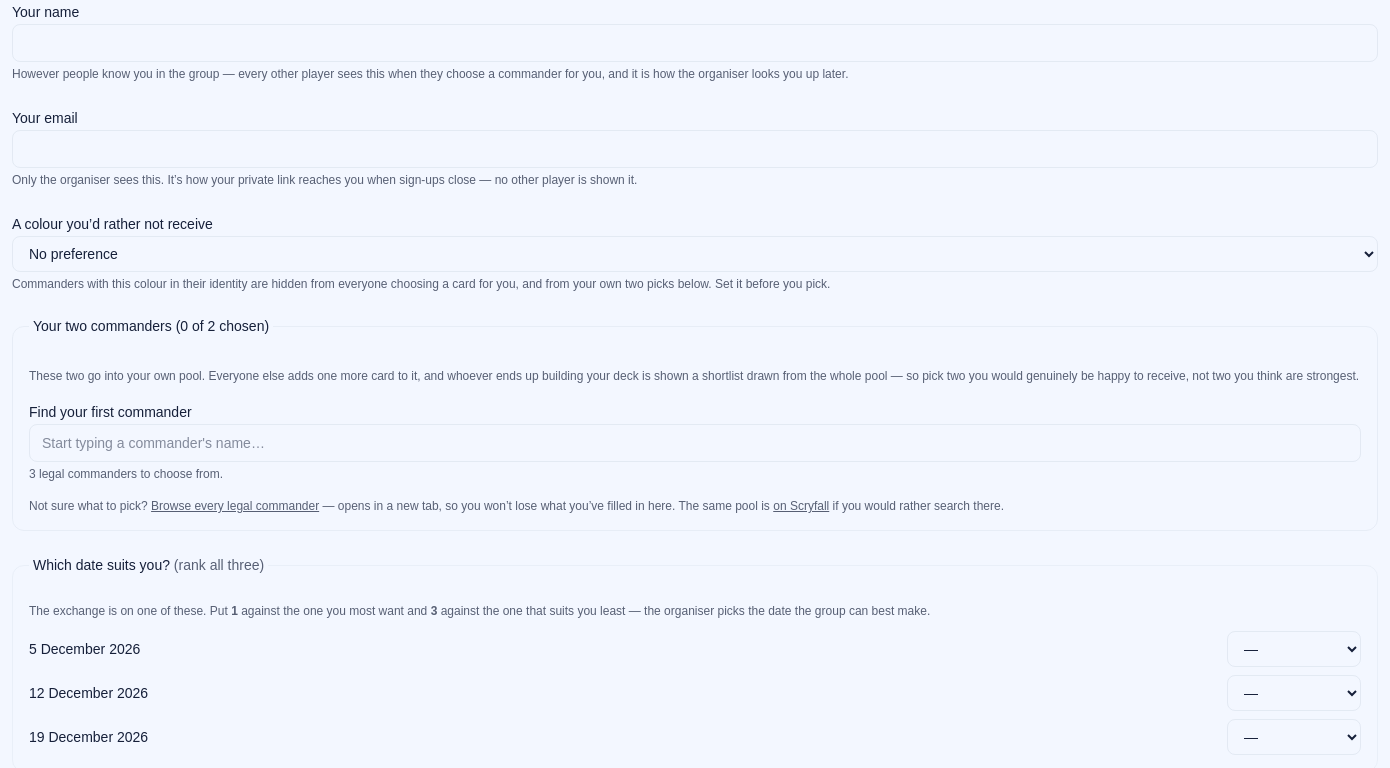
Test: SignupForm › filters the list by what is typed
In the dropdown labelled "Find your first commander": (695,443) [29,424,1361,462], type "selv"
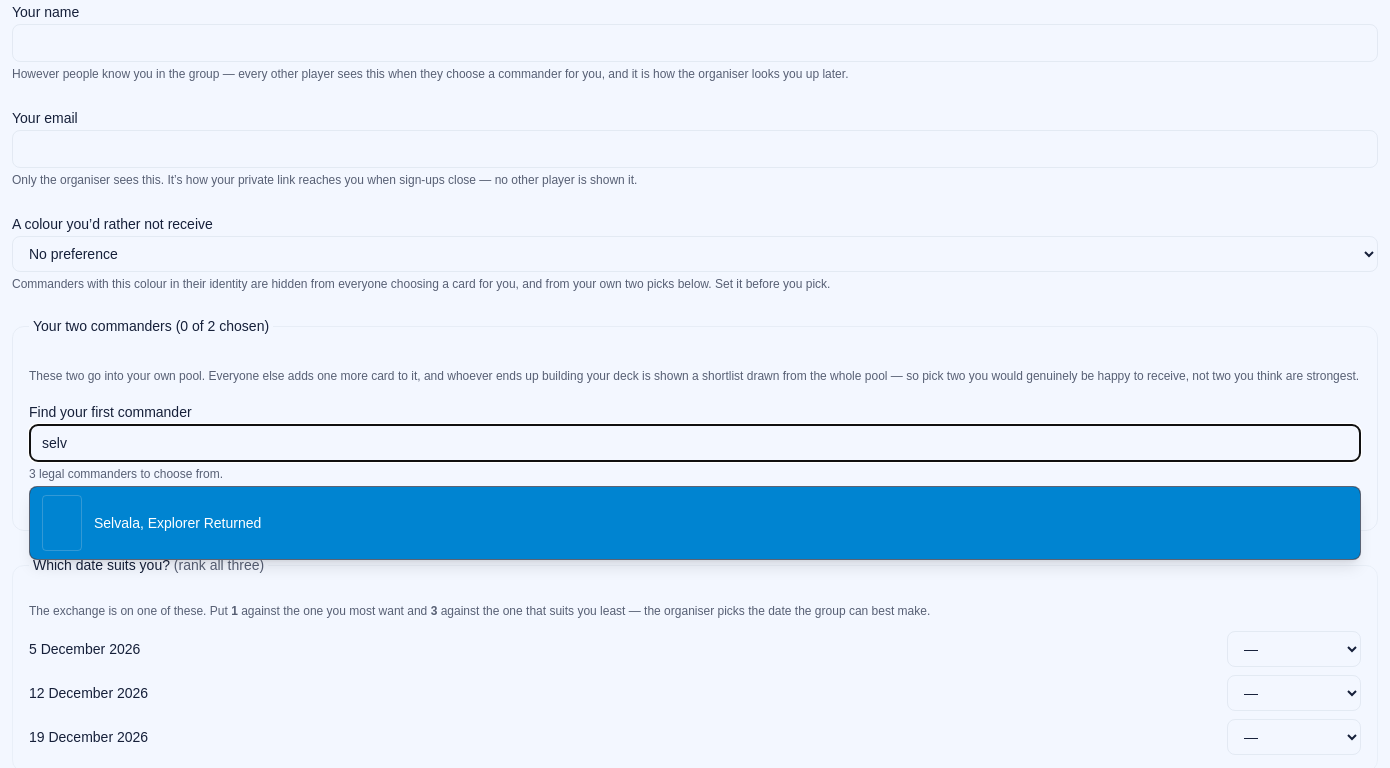
Check: the number of options is 1, box [30,487,1360,559]
Check: the option reads "Selvala, Explorer Returned", box [30,487,1360,559]
